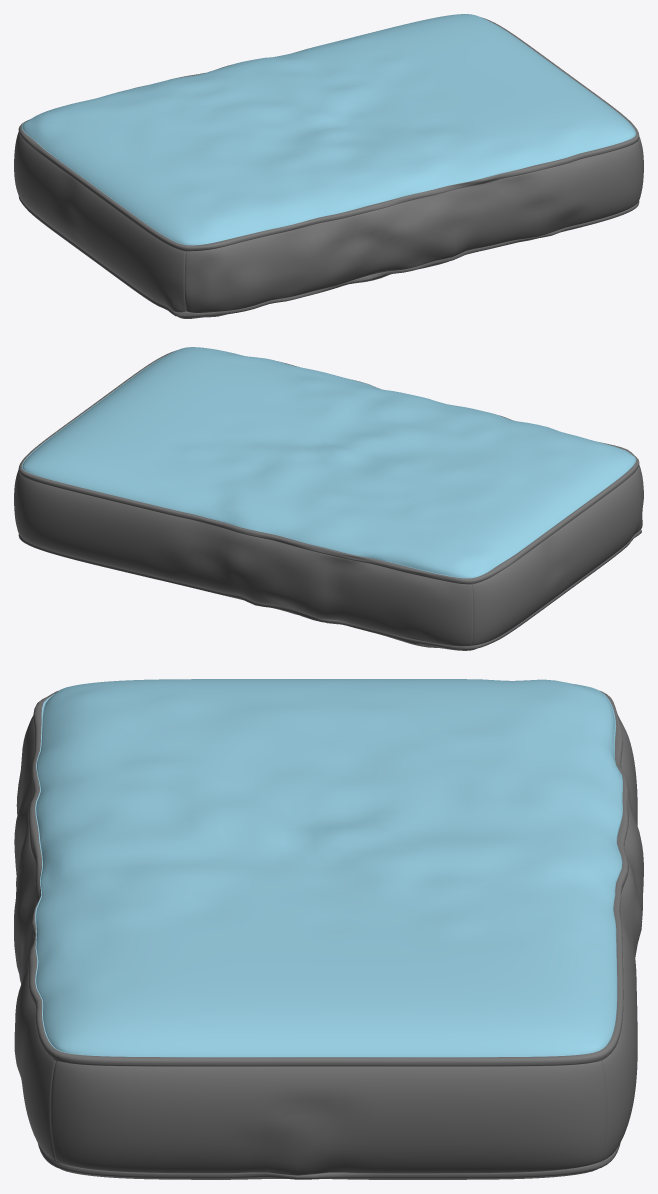
File: colchon.fbx
The picture shows the model from 3 angles, top to bottom: view 1: azimuth 30°, elevation 25°; view 2: azimuth 150°, elevation 25°; view 3: azimuth 270°, elevation 25°; orthographic projection. The views are drawn at different scales.
Parts seen in each view (by area): view 1: Object001, Box001; view 2: Object001, Box001; view 3: Object001, Box001.
Part boxes in pixels (x1,y1,x2,y2): Object001: (22, 14, 635, 245); Box001: (14, 17, 643, 318); Object001: (22, 347, 636, 578); Box001: (14, 350, 643, 650); Object001: (35, 679, 622, 1057); Box001: (14, 690, 643, 1179).
Bounding box in the file's own units: 147 × 30.01 × 99.48.
